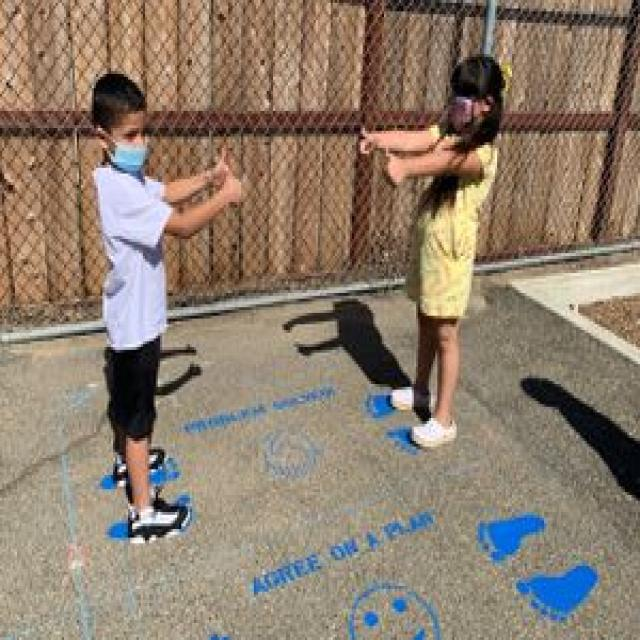child: (79, 68, 262, 555), (348, 43, 514, 458)
